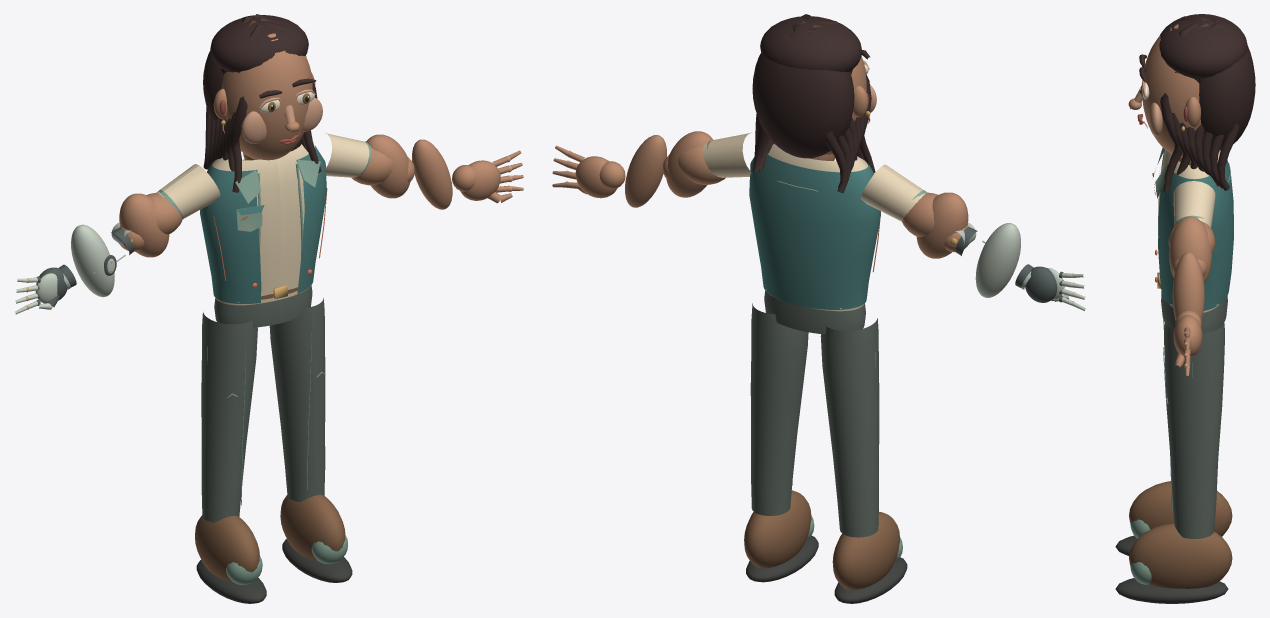
The picture shows the model from 3 angles, left to right: view 1: azimuth 30°, elevation 25°; view 2: azimuth 150°, elevation 25°; view 3: azimuth 270°, elevation 25°; orthographic projection. The views are drawn at different scales.
Parts seen in each view (by area): view 1: Trousers | long leg, Vest | wrapped shell, Blouse | fitted body, Boot | leather upper, Head | long expressive face, Hair | crown, Arm | upper, Blouse | short sleeve, Boot | rubber sole, Hair | wavy shoulder lock, Trousers | high waist, Prosthesis | forearm ceramic shell (+7 smaller); view 2: Trousers | long leg, Vest | wrapped shell, Hair | rear volume, Boot | leather upper, Hair | crown, Blouse | short sleeve, Arm | upper, Hair | wavy shoulder lock, Boot | rubber sole, Prosthesis | forearm ceramic shell, Trousers | high waist, Arm | right forearm (+4 smaller); view 3: Trousers | long leg, Boot | leather upper, Vest | wrapped shell, Hair | crown, Hair | rear volume, Hair | wavy shoulder lock, Head | long expressive face, Boot | rubber sole, Arm | right forearm, Arm | upper, Blouse | short sleeve, Trousers | high waist (+8 smaller).
Boxes of the visible parts, x1,y1,x2,y2 form: Trousers | long leg: (201,298,325,522); Vest | wrapped shell: (200,146,326,303); Blouse | fitted body: (212,144,309,305); Boot | leather upper: (195,494,345,582); Head | long expressive face: (221,33,312,160); Hair | crown: (210,15,308,72); Arm | upper: (119,134,410,257); Blouse | short sleeve: (156,133,369,218); Boot | rubber sole: (196,539,352,603); Hair | wavy shoulder lock: (203,56,321,192); Trousers | high waist: (214,285,312,327); Prosthesis | forearm ceramic shell: (71,224,114,297); Trousers | long leg: (750,303,879,537); Vest | wrapped shell: (749,154,880,309); Hair | rear volume: (752,30,854,158); Boot | leather upper: (744,490,900,589); Hair | crown: (760,16,862,71); Blouse | short sleeve: (703,132,926,221); Arm | upper: (666,131,968,258); Hair | wavy shoulder lock: (753,69,875,193); Boot | rubber sole: (746,535,907,603); Prosthesis | forearm ceramic shell: (975,223,1020,297); Trousers | high waist: (764,290,865,334); Arm | right forearm: (625,135,666,207); Trousers | long leg: (1164,322,1224,538); Boot | leather upper: (1129,481,1232,588); Vest | wrapped shell: (1158,160,1233,310); Hair | crown: (1159,14,1247,78); Hair | rear volume: (1199,21,1255,149); Hair | wavy shoulder lock: (1160,72,1239,192); Head | long expressive face: (1142,24,1201,157); Boot | rubber sole: (1115,535,1228,603); Arm | right forearm: (1172,252,1204,321); Arm | upper: (1169,216,1212,283); Blouse | short sleeve: (1173,181,1215,228); Trousers | high waist: (1161,291,1227,332).
Size of the model in its own units: 1.87 by 1.91 by 0.436.
